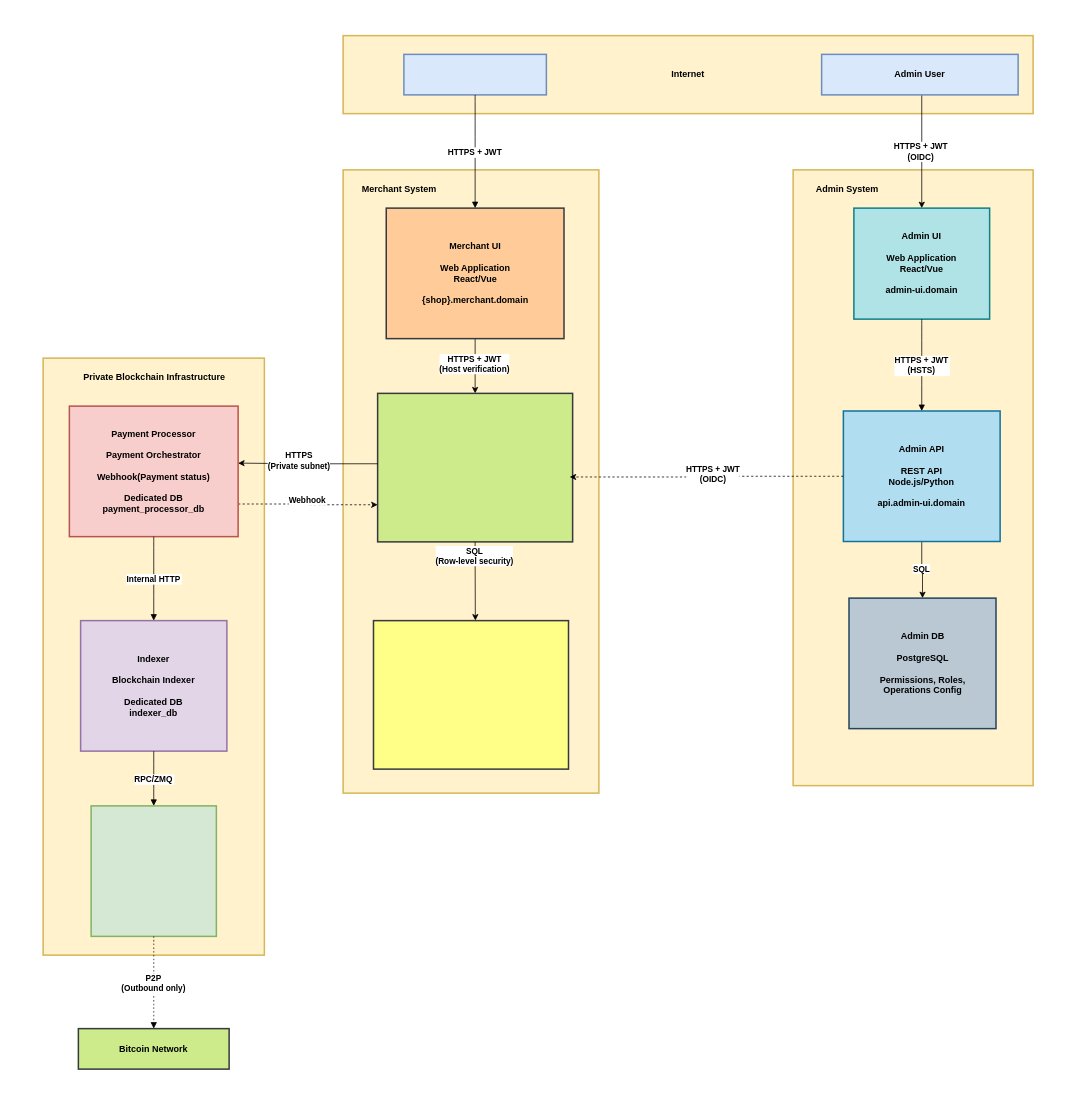
This 1083x1106 diagram has some shape labels left out. Each missing label, with the centre of its shape:
"Bitcoin Node Bitcoin Core Full Node NVMe Storage" goes at (x=153, y=871).
"Merchant API REST API Node.js/Python {shop-api}.merchant.domain" goes at (x=474, y=467).
"Merchant DB PostgreSQL Transactions, Products, Orders (merchant_id isolated)" goes at (x=470, y=695).
"Merchant User" goes at (x=475, y=74).
